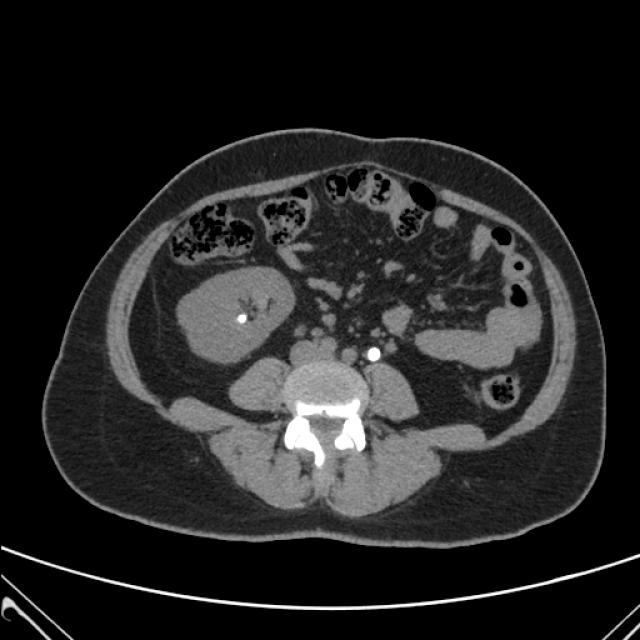kidney: (170, 253, 302, 372), (364, 302, 418, 358)
stone: (229, 306, 255, 328)
